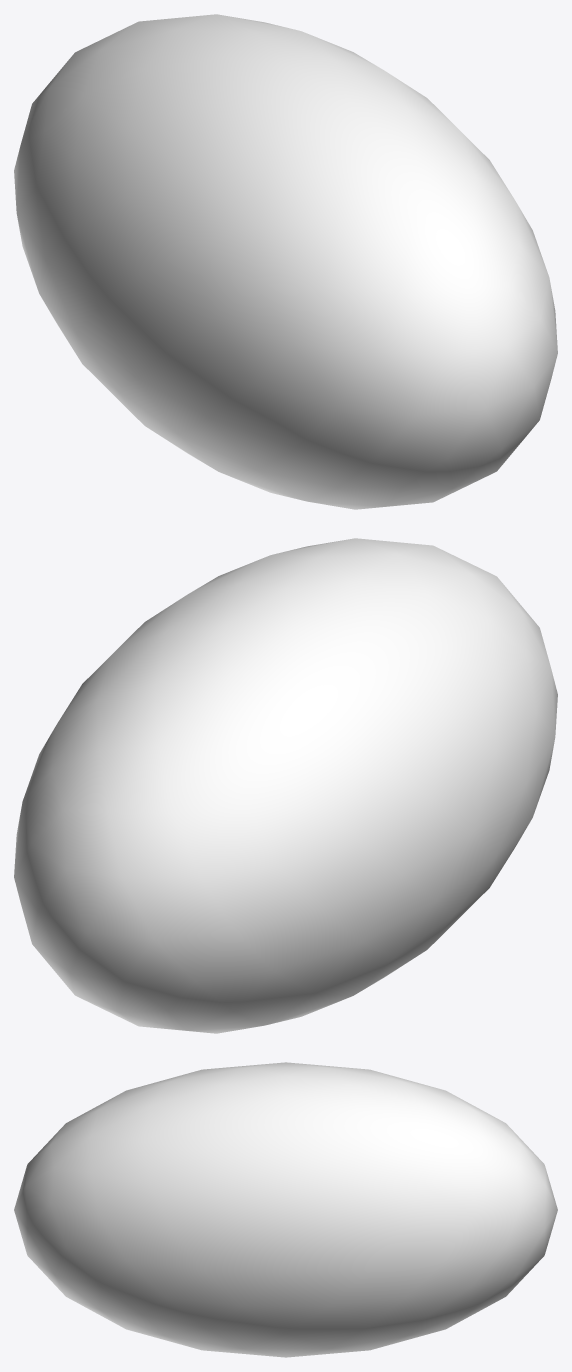
File: baseCell_long.fbx
The picture shows the model from 3 angles, top to bottom: view 1: azimuth 30°, elevation 25°; view 2: azimuth 150°, elevation 25°; view 3: azimuth 270°, elevation 25°; orthographic projection. The views are drawn at different scales.
Parts seen in each view (by area): view 1: Base_Long; view 2: Base_Long; view 3: Base_Long.
Part boxes in pixels (x1,y1,x2,y2): Base_Long: [14, 14, 557, 509]; Base_Long: [14, 538, 557, 1033]; Base_Long: [14, 1062, 557, 1357].
Bounding box in the file's own units: 1 × 1 × 1.84.
